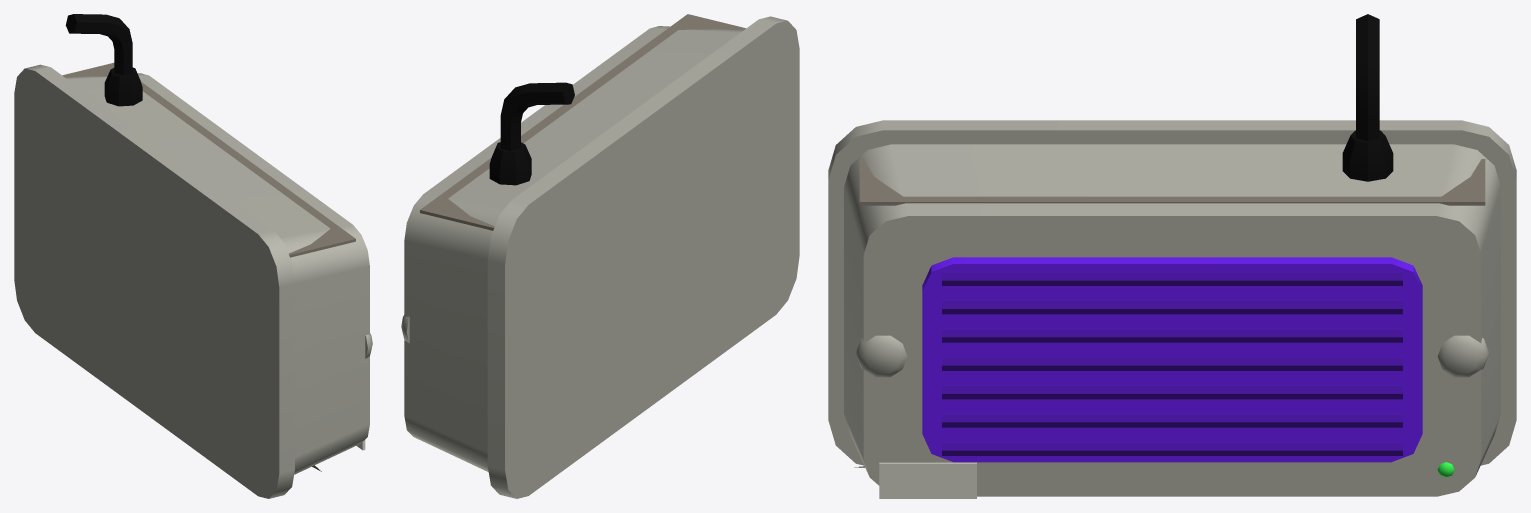
The model's file is violet_lamp.glb.
3 views of the same model, side by side, from view 1: azimuth 30°, elevation 25°; view 2: azimuth 150°, elevation 25°; view 3: azimuth 270°, elevation 25° (orthographic). The views are drawn at different scales.
Parts seen in each view (by area): view 1: notlicht0, notlicht5, notlicht6; view 2: notlicht0, notlicht5, notlicht6; view 3: notlicht0, notlicht1, notlicht2, notlicht6, notlicht5, notlicht4.
Part boxes in pixels (x1,y1,x2,y2): notlicht0: (14, 64, 372, 498); notlicht5: (65, 14, 142, 106); notlicht6: (62, 62, 355, 257); notlicht0: (401, 16, 799, 498); notlicht5: (489, 82, 574, 185); notlicht6: (420, 14, 745, 230); notlicht0: (828, 120, 1516, 496); notlicht1: (922, 257, 1422, 462); notlicht2: (942, 271, 1402, 455); notlicht6: (859, 159, 1485, 205); notlicht5: (1342, 14, 1393, 181); notlicht4: (879, 462, 976, 498).
Bounding box in the file's own units: 0.0464 × 0.1264 × 0.176.
